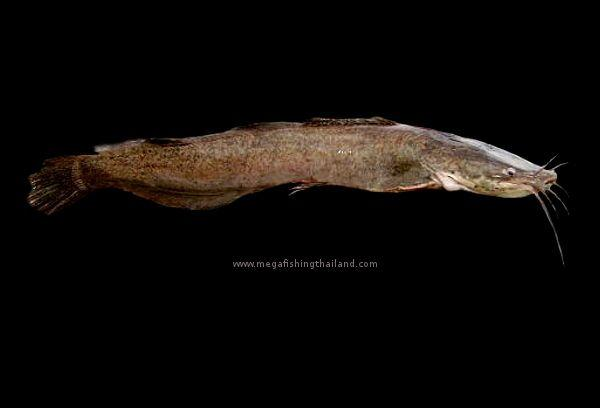Catfish: (29, 108, 580, 266)
